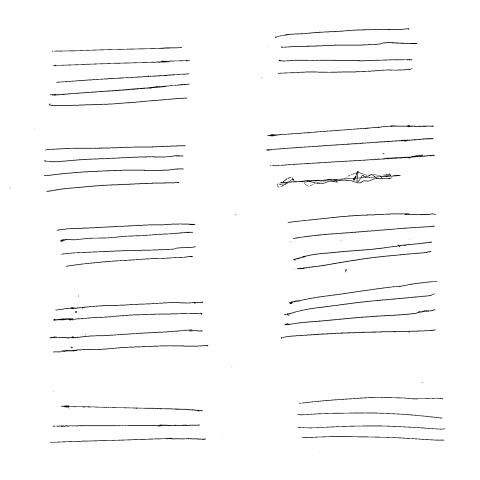Paragraph: (280, 280, 438, 341), (46, 46, 195, 110), (287, 212, 440, 274), (47, 300, 210, 357), (264, 125, 437, 170), (295, 395, 453, 443), (44, 143, 188, 195), (276, 26, 418, 77), (44, 403, 207, 447), (54, 222, 199, 270)
